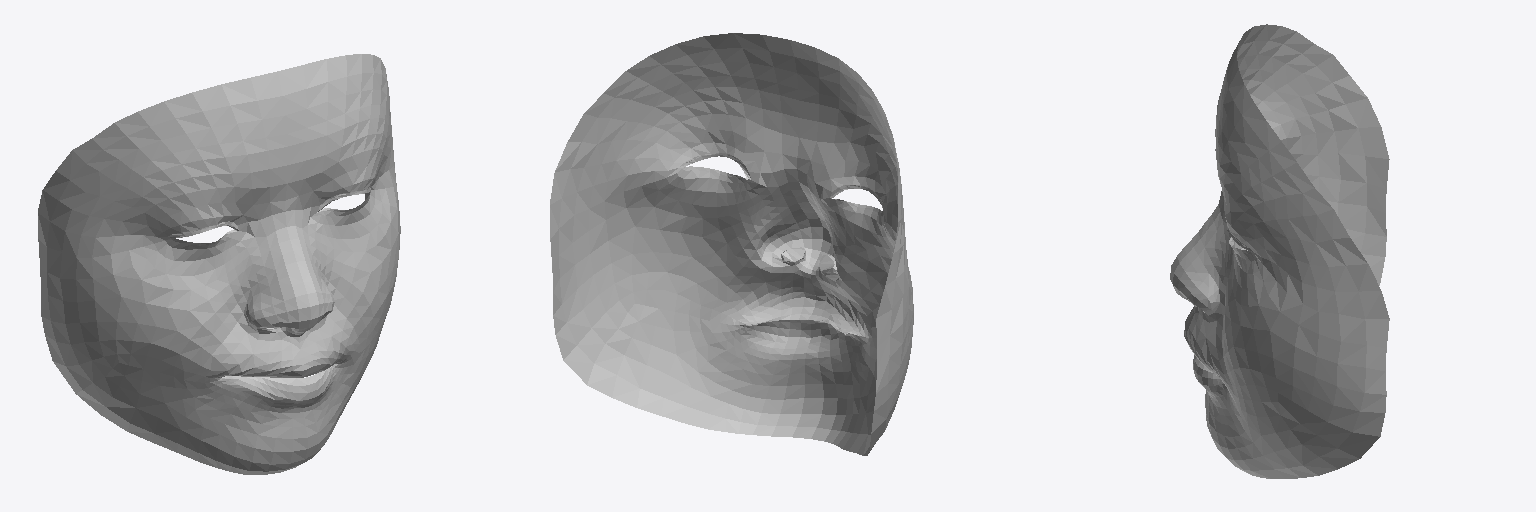
The model's file is mouthPress_R.obj.
3 renders of one model, left to right at view 1: azimuth 30°, elevation 25°; view 2: azimuth 150°, elevation 25°; view 3: azimuth 270°, elevation 25°, orthographic.
Parts seen in each view (by area): view 1: default; view 2: default; view 3: default.
Boxes of the visible parts, x1=… form: default: x1=38, y1=54, x2=400, y2=474; default: x1=550, y1=33, x2=913, y2=455; default: x1=1170, y1=24, x2=1389, y2=478.
Size of the model in its own units: 0.1624 by 0.1839 by 0.0912.